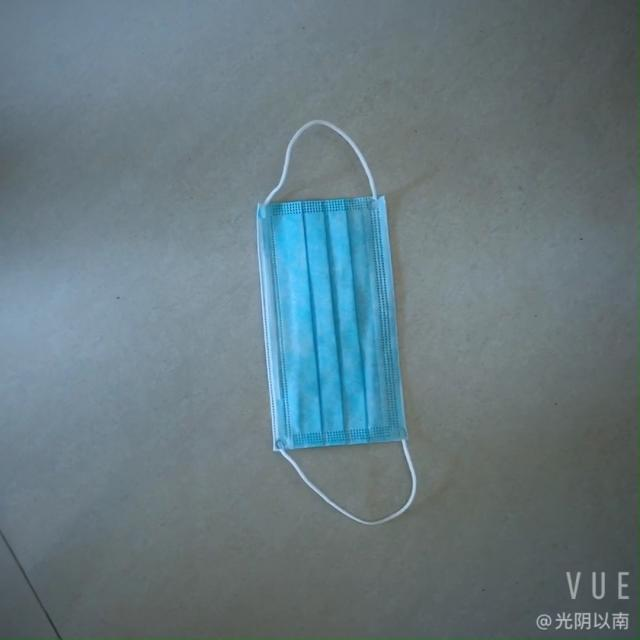face mask: (234, 171, 413, 471)
